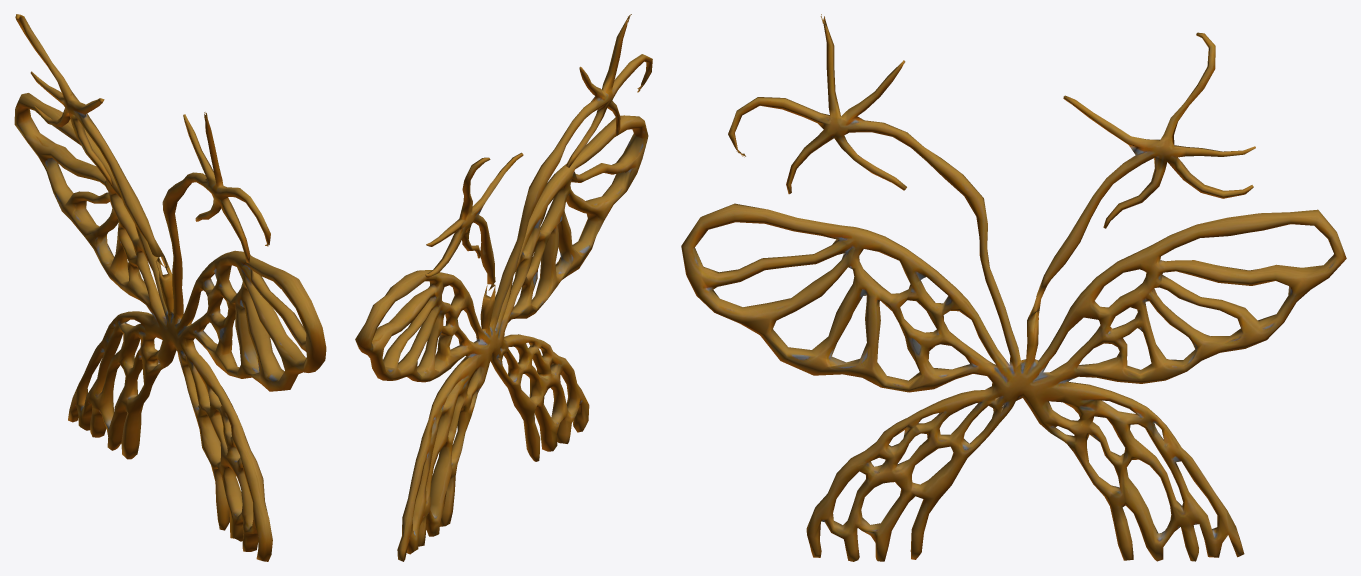
The model's file is sommerfugl_port.fbx.
3 views of the same model, side by side, from view 1: azimuth 30°, elevation 25°; view 2: azimuth 150°, elevation 25°; view 3: azimuth 270°, elevation 25° (orthographic). The views are drawn at different scales.
Parts seen in each view (by area): view 1: sommerfugl_port; view 2: sommerfugl_port; view 3: sommerfugl_port.
Part boxes in pixels (left/top/right/bottom): sommerfugl_port: left=14, top=14, right=326, bottom=561; sommerfugl_port: left=355, top=14, right=652, bottom=561; sommerfugl_port: left=681, top=14, right=1346, bottom=561.
Size of the model in its own units: 1.63 by 7.59 by 8.92.
1 material, 1 textured.
